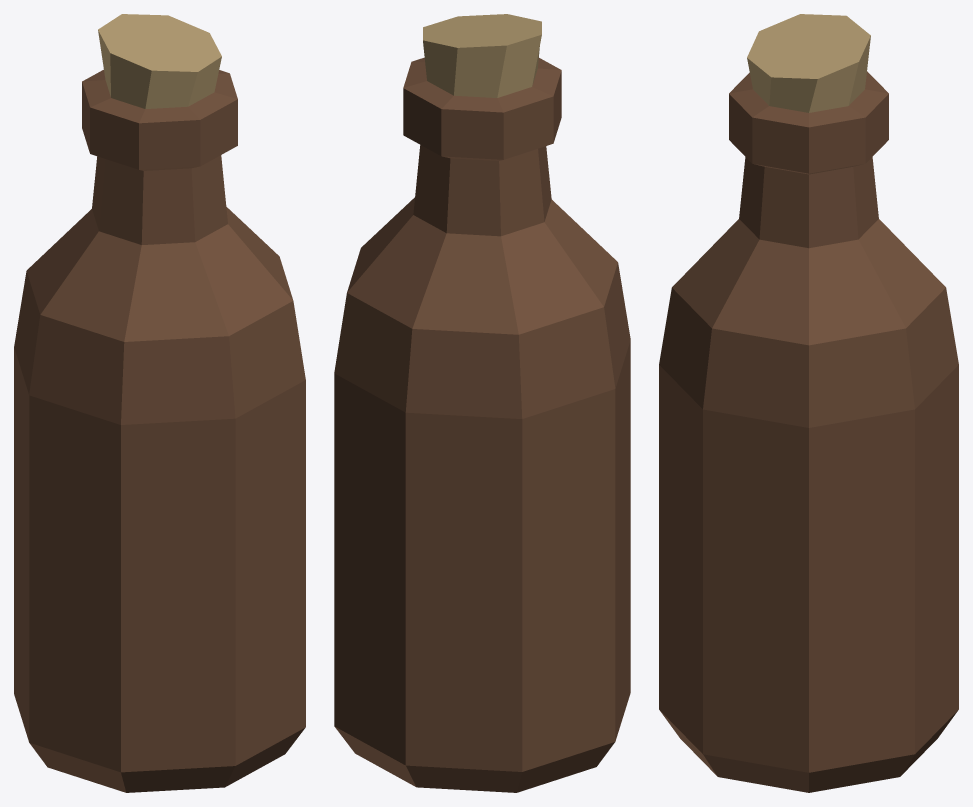
File: Bottiglia2.fbx
3 renders of one model, left to right at view 1: azimuth 30°, elevation 25°; view 2: azimuth 150°, elevation 25°; view 3: azimuth 270°, elevation 25°, orthographic. The views are drawn at different scales.
Visible parts, largest first — view 1: SM_Item_Bottle_04; view 2: SM_Item_Bottle_04; view 3: SM_Item_Bottle_04.
Boxes of the visible parts, <box> form: SM_Item_Bottle_04: <box>14,14,305,792</box>; SM_Item_Bottle_04: <box>334,14,630,792</box>; SM_Item_Bottle_04: <box>659,14,958,792</box>.
Bounding box in the file's own units: 12.86 × 33.21 × 12.86.
Materials: 1 (1 with a texture image).
